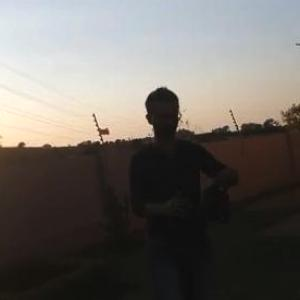follow: (123, 78, 244, 299)
